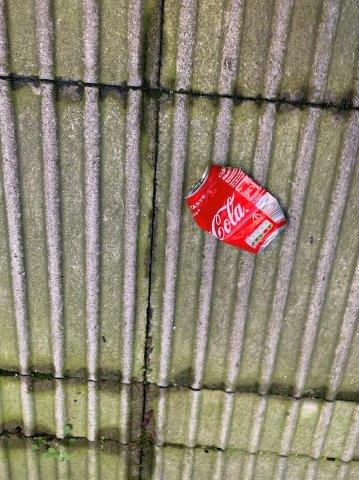kaleng: (185, 164, 285, 255)
